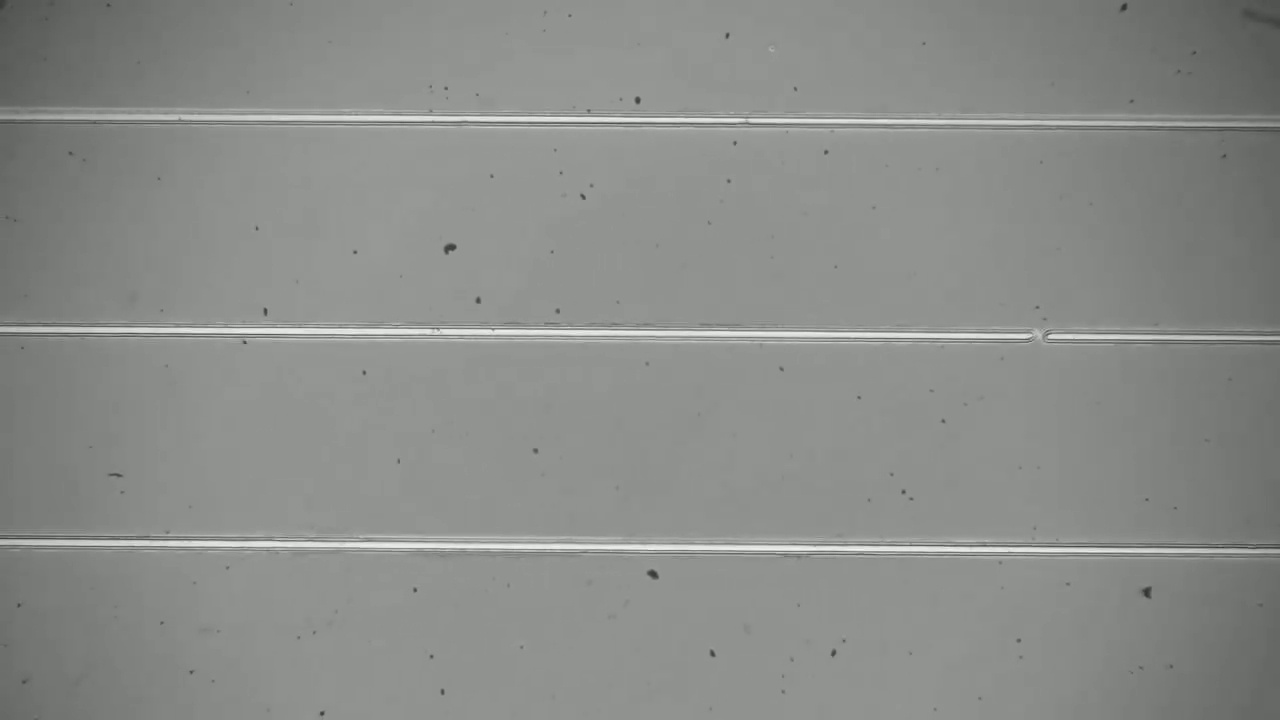open: (1008, 316, 1065, 357)
